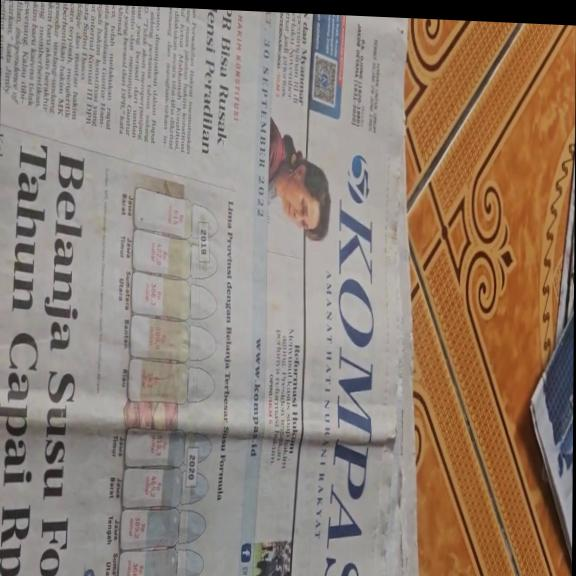Kertas: (2, 5, 406, 576)
